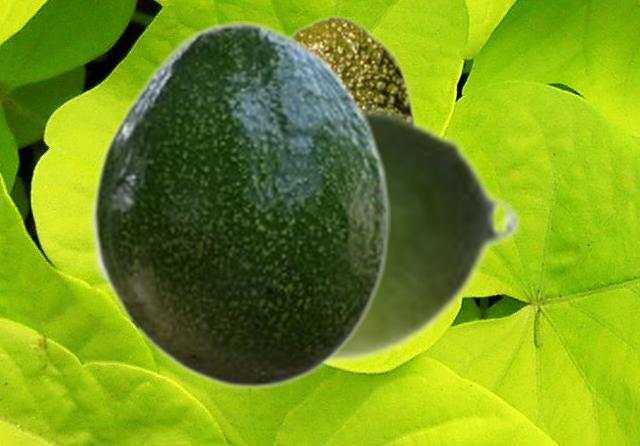avocado: (84, 97, 523, 369), (92, 21, 389, 389), (288, 15, 416, 115)
